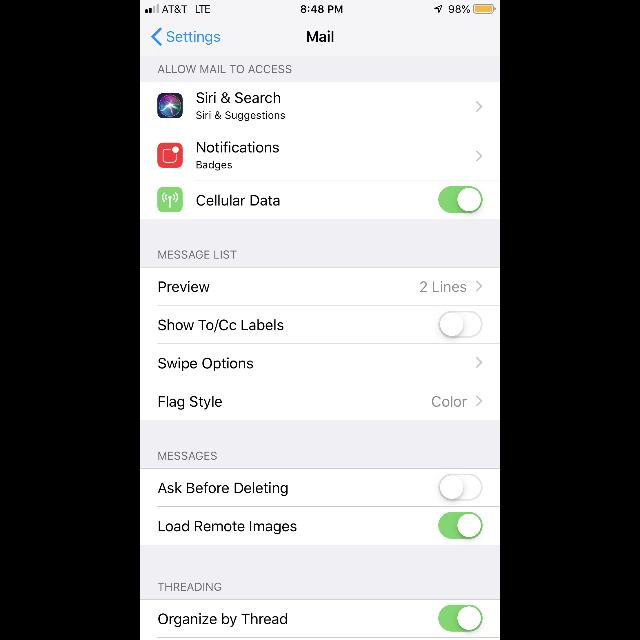icon: (152, 28, 162, 46), (476, 150, 482, 162), (476, 280, 482, 292), (476, 101, 482, 112), (476, 357, 482, 368), (476, 396, 482, 406)
image: (158, 142, 182, 168), (158, 94, 182, 118), (158, 188, 182, 212)
switch: (438, 186, 482, 214), (438, 310, 482, 338), (438, 604, 482, 632), (438, 474, 482, 501), (438, 512, 482, 538)
text: (159, 520, 297, 534), (158, 482, 288, 496), (159, 613, 287, 627), (158, 320, 284, 332), (158, 357, 254, 371), (158, 65, 292, 73), (197, 92, 281, 104), (196, 194, 280, 206), (158, 396, 222, 410), (197, 111, 286, 121), (197, 142, 279, 152), (168, 31, 220, 45), (159, 251, 237, 259), (158, 282, 210, 292), (158, 583, 222, 591), (159, 452, 217, 460), (420, 282, 466, 292), (196, 161, 232, 171), (432, 396, 466, 406), (307, 30, 333, 42)
uppertaskbar: (140, 0, 500, 14)
